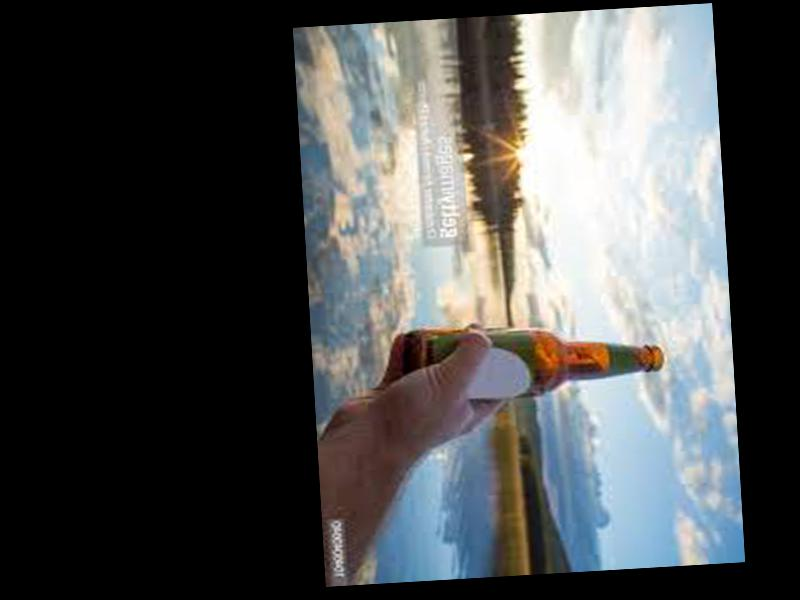Beer: (404, 313, 665, 406)
